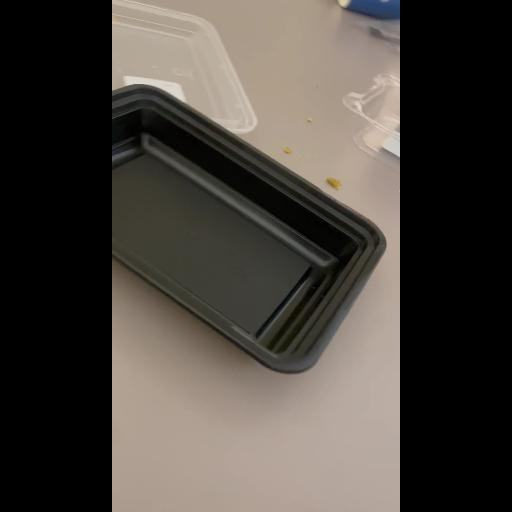rigid_plastic_container: (112, 73, 388, 407)
